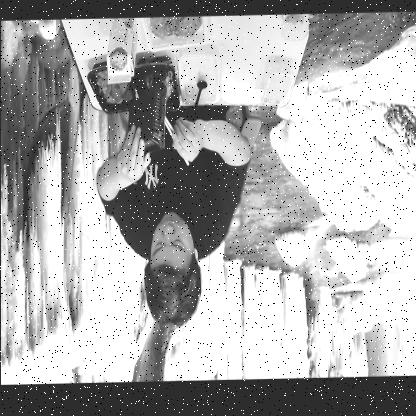streamer: (95, 102, 250, 330)
